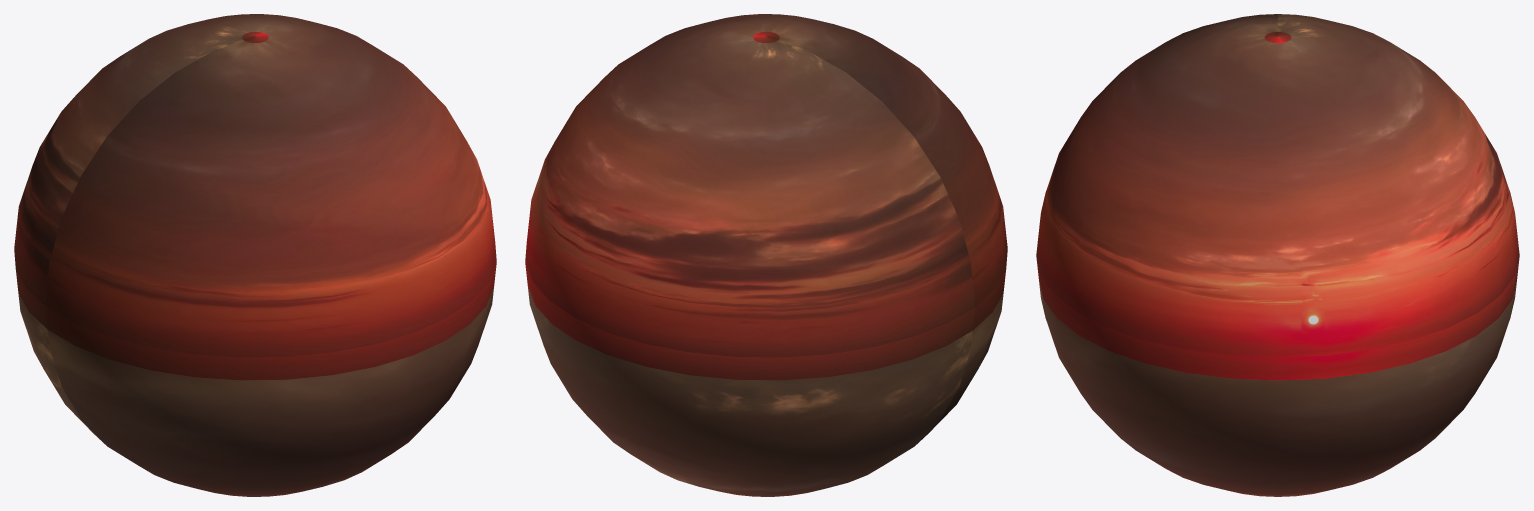
File: Sky.gltf
3 renders of one model, left to right at view 1: azimuth 30°, elevation 25°; view 2: azimuth 150°, elevation 25°; view 3: azimuth 270°, elevation 25°, orthographic.
Parts seen in each view (by area): view 1: 球.001; view 2: 球.001; view 3: 球.001.
Part boxes in pixels (x1,y1,x2,y2): 球.001: (14, 14, 496, 496); 球.001: (525, 14, 1007, 496); 球.001: (1036, 14, 1519, 496).
Size of the model in its own units: 2400 by 2400 by 2400.
1 material, 1 textured.
